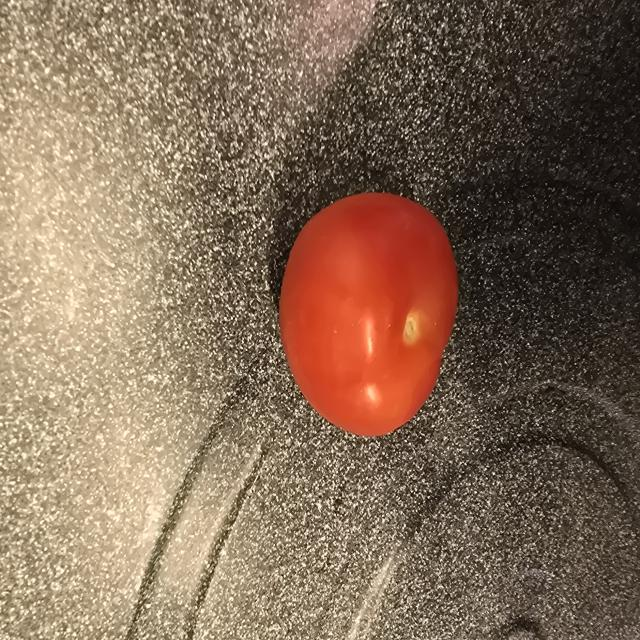Tomato: (279, 193, 458, 436)
